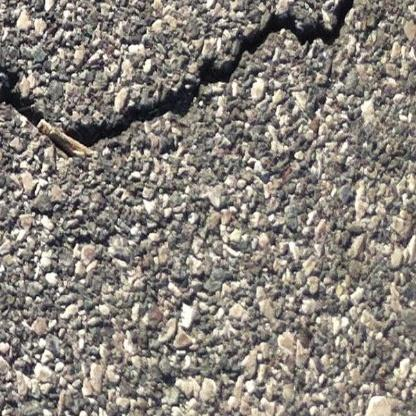Cracks: (63, 0, 373, 152), (0, 55, 50, 132)
